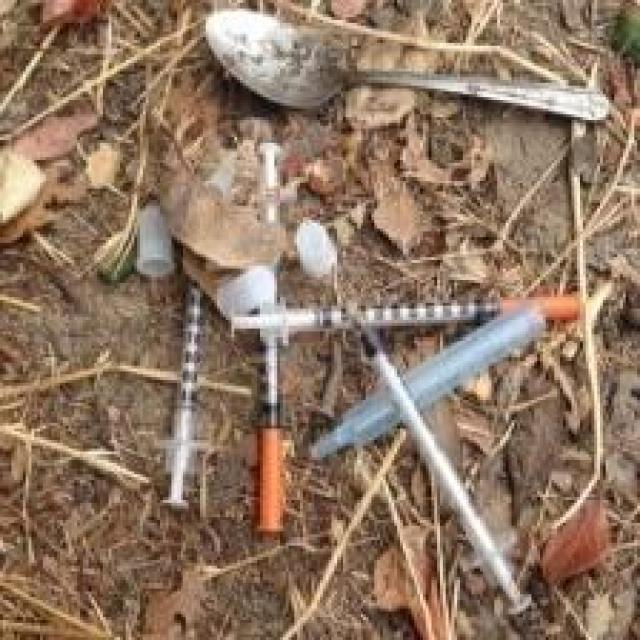syringe: (359, 316, 564, 632), (241, 272, 587, 352), (169, 237, 210, 568), (256, 310, 298, 553)
